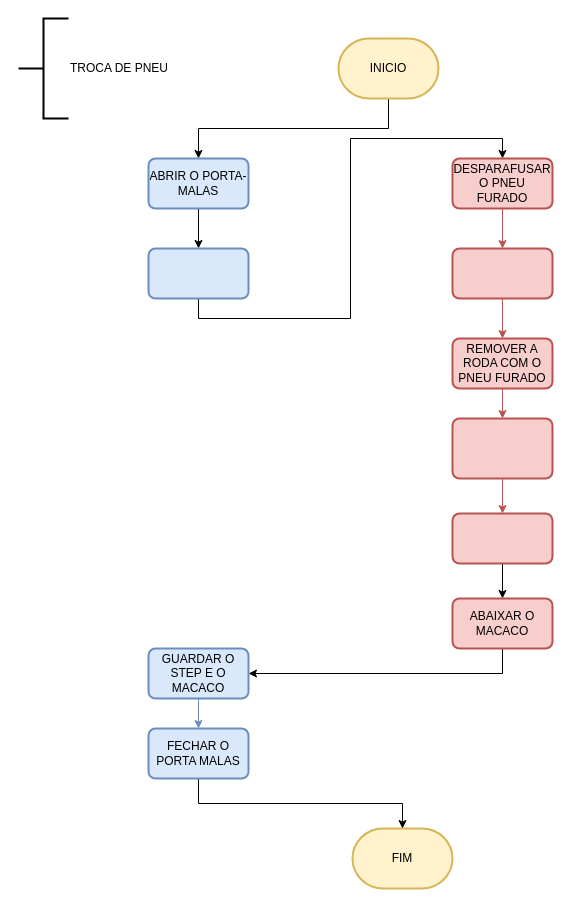
This 570x906 diagram has some shape labels left out. Each missing label, with the centre of its shape:
INSERIR O STEP NA POSIÇÃO DA RODA COM O PNEU FURADO: (x=502, y=448)
LEVANTAR O CARRO COM O MACACO: (x=502, y=273)
PARAFUSAR O STEP: (x=502, y=538)
PEGAR O STEP E O MACACO: (x=198, y=273)
